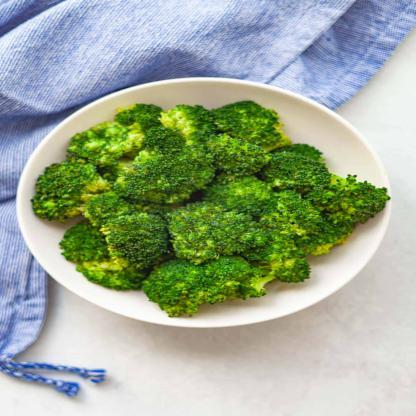broccoli: (32, 100, 392, 316)
